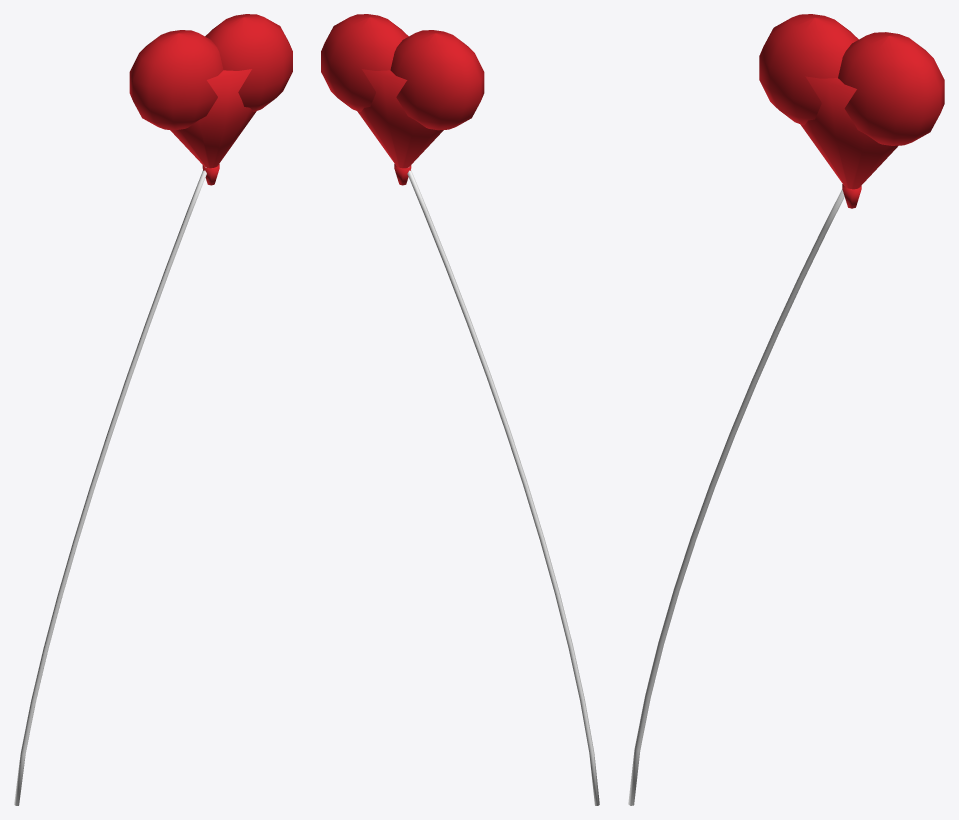
Rendered from hand_balloon.glb.
3 views of the same model, side by side, from view 1: azimuth 30°, elevation 25°; view 2: azimuth 150°, elevation 25°; view 3: azimuth 330°, elevation 25° (orthographic). The views are drawn at different scales.
Visible parts, largest first — view 1: hand_balloon_q; view 2: hand_balloon_q; view 3: hand_balloon_q.
Boxes of the visible parts, x1,y1,x2,y2 form: hand_balloon_q: [14, 14, 292, 805]; hand_balloon_q: [321, 14, 599, 805]; hand_balloon_q: [628, 14, 944, 805].
Bounding box in the file's own units: 1.59 × 4.07 × 0.4.
